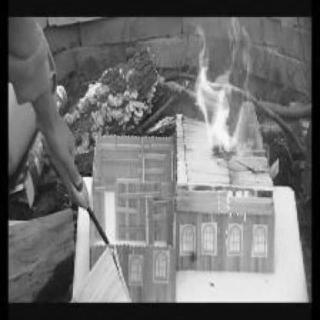Fire: (193, 22, 259, 162)
